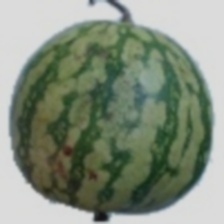watermelon: (15, 49, 181, 209)
